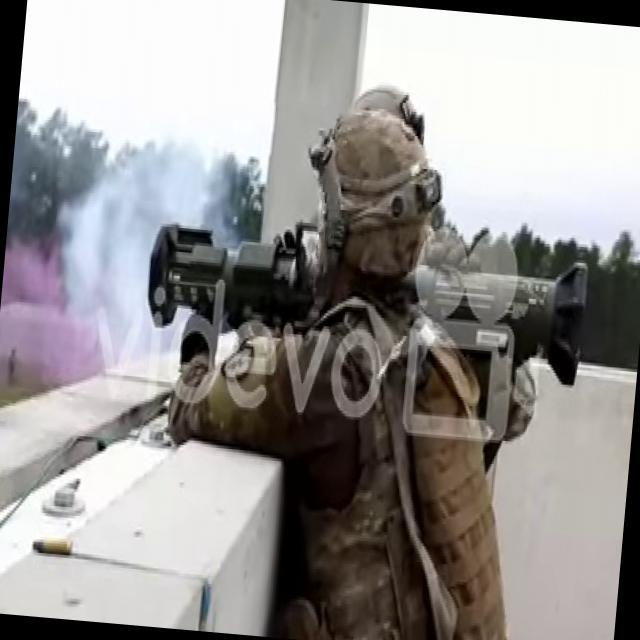rocket: (143, 202, 592, 378)
